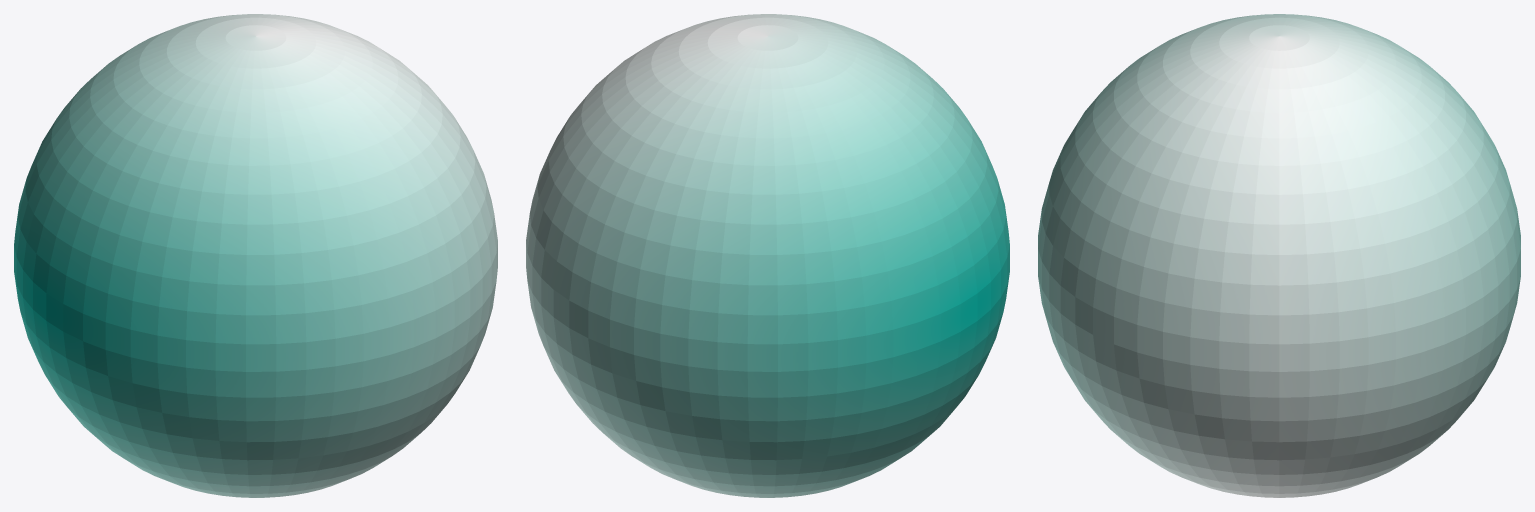
File: planet_02.fbx
3 views of the same model, side by side, from view 1: azimuth 30°, elevation 25°; view 2: azimuth 150°, elevation 25°; view 3: azimuth 270°, elevation 25° (orthographic).
Parts seen in each view (by area): view 1: planet_02; view 2: planet_02; view 3: planet_02.
Part boxes in pixels (x1,y1,x2,y2): planet_02: [14, 14, 497, 497]; planet_02: [526, 14, 1009, 497]; planet_02: [1038, 14, 1520, 497].
Bounding box in the file's own units: 39.92 × 40 × 39.84.
1 material, 1 textured.
